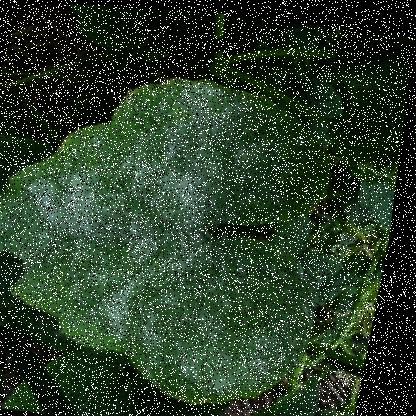PowderyMildew: (89, 230, 292, 360), (20, 153, 197, 280), (120, 90, 281, 225)
